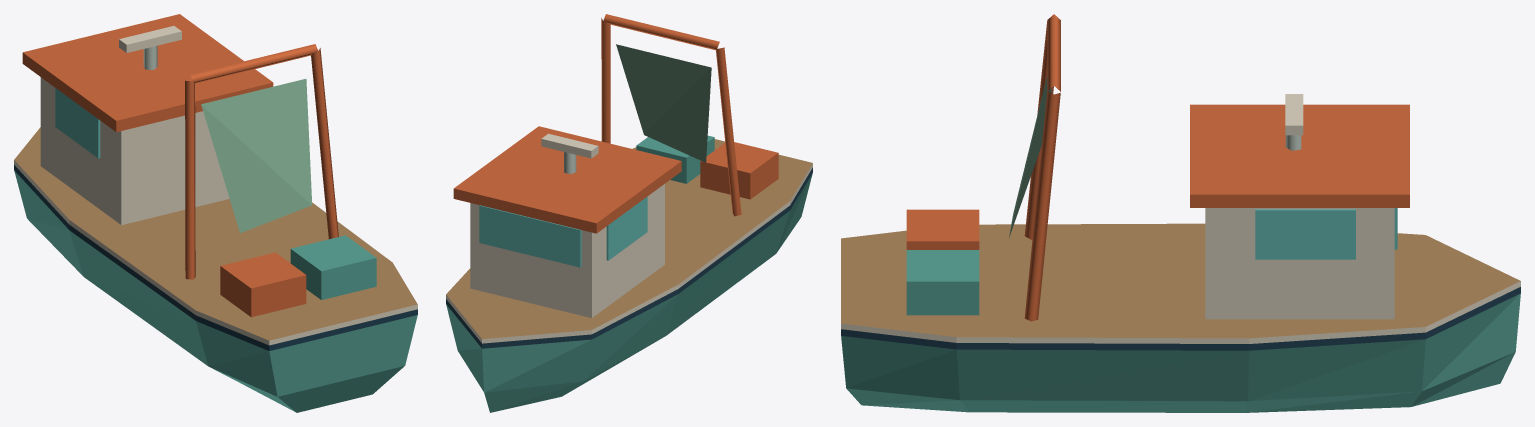
Rendered from fishing.glb.
3 renders of one model, left to right at view 1: azimuth 30°, elevation 25°; view 2: azimuth 150°, elevation 25°; view 3: azimuth 270°, elevation 25°, orthographic. The views are drawn at different scales.
Parts seen in each view (by area): view 1: static_painted, static_glass; view 2: static_painted, static_glass; view 3: static_painted, static_glass.
Part boxes in pixels (<box>): static_painted: <box>14,14,417,412</box>; static_glass: <box>55,88,100,158</box>; static_painted: <box>446,14,812,412</box>; static_glass: <box>479,196,647,267</box>; static_painted: <box>841,14,1520,412</box>; static_glass: <box>1255,208,1397,259</box>.
Bounding box in the file's own units: 2.4 × 3.25 × 6.
